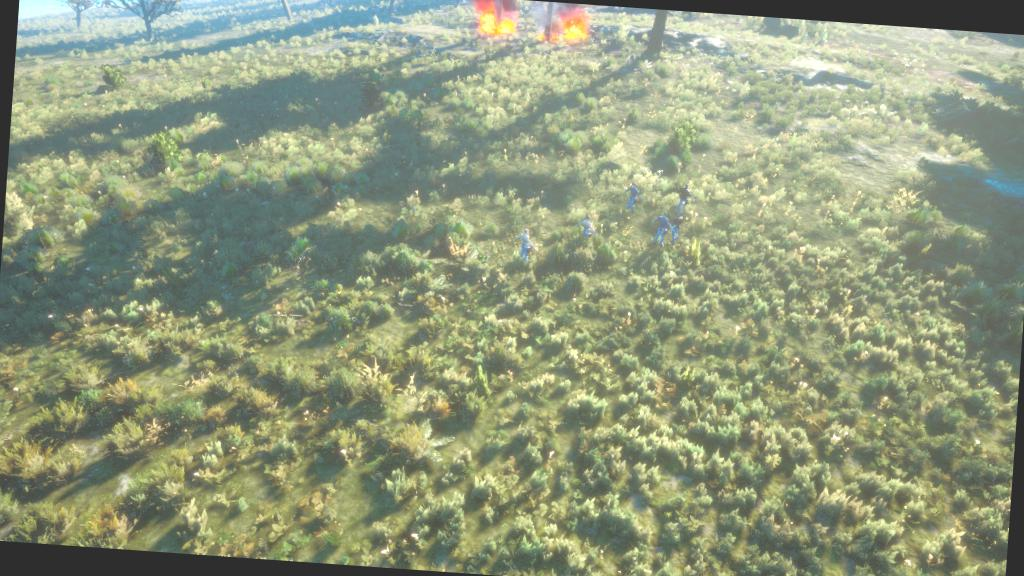Fire: (536, 9, 592, 45), (472, 4, 518, 36)
human: (649, 161, 710, 254), (616, 174, 652, 228), (510, 220, 546, 272), (562, 202, 604, 246)
